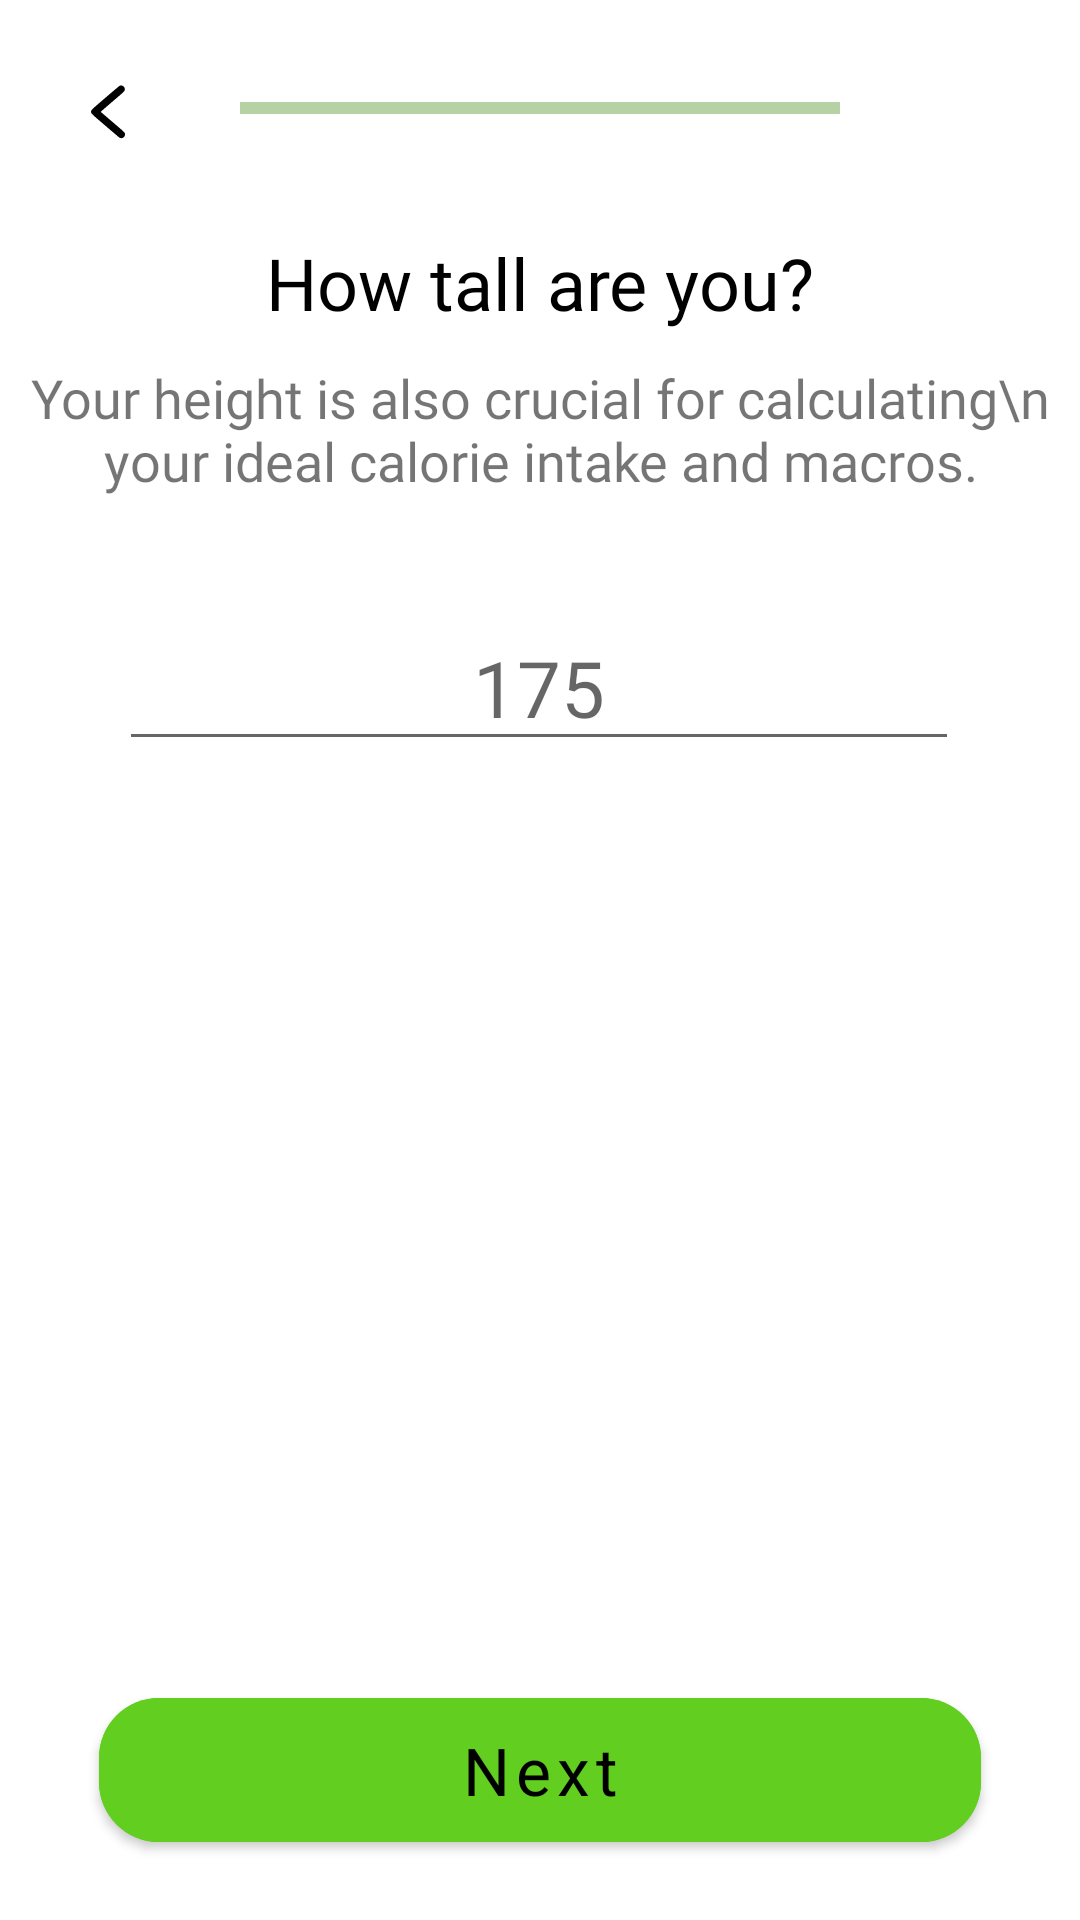

Screen size 1080x1920. Icon name, then its box in pixels as (x1, y1, x2, y2):
arrow back: (91, 85, 125, 139)
